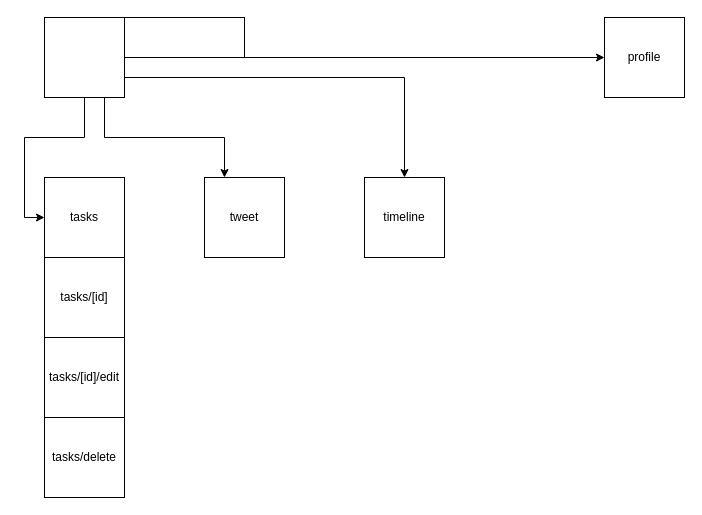
Image size: 702x515. Some labels were removed from this diagram. Each missing label, with the centre of its shape:
"index/timer" belongs at (x=84, y=57).
"signin/signup" belongs at (x=184, y=37).
